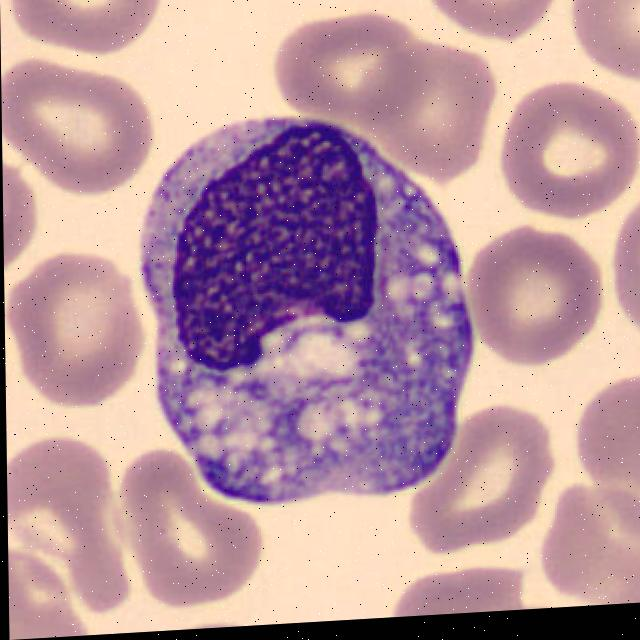monocyte: (138, 89, 484, 507)
rbc: (4, 248, 159, 425), (122, 432, 266, 609), (409, 391, 561, 554), (6, 418, 119, 614), (1, 51, 158, 191), (468, 222, 607, 368), (491, 87, 638, 225), (271, 5, 424, 132), (361, 37, 498, 166), (542, 471, 640, 608), (381, 549, 554, 618), (572, 367, 640, 522), (11, 0, 180, 54), (9, 525, 82, 640), (564, 0, 640, 95), (421, 0, 567, 45), (2, 130, 47, 272), (605, 202, 640, 354), (156, 602, 277, 631)
